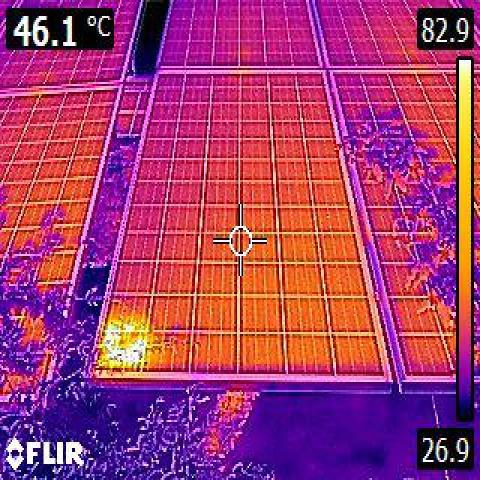fault: (100, 330, 145, 374)
